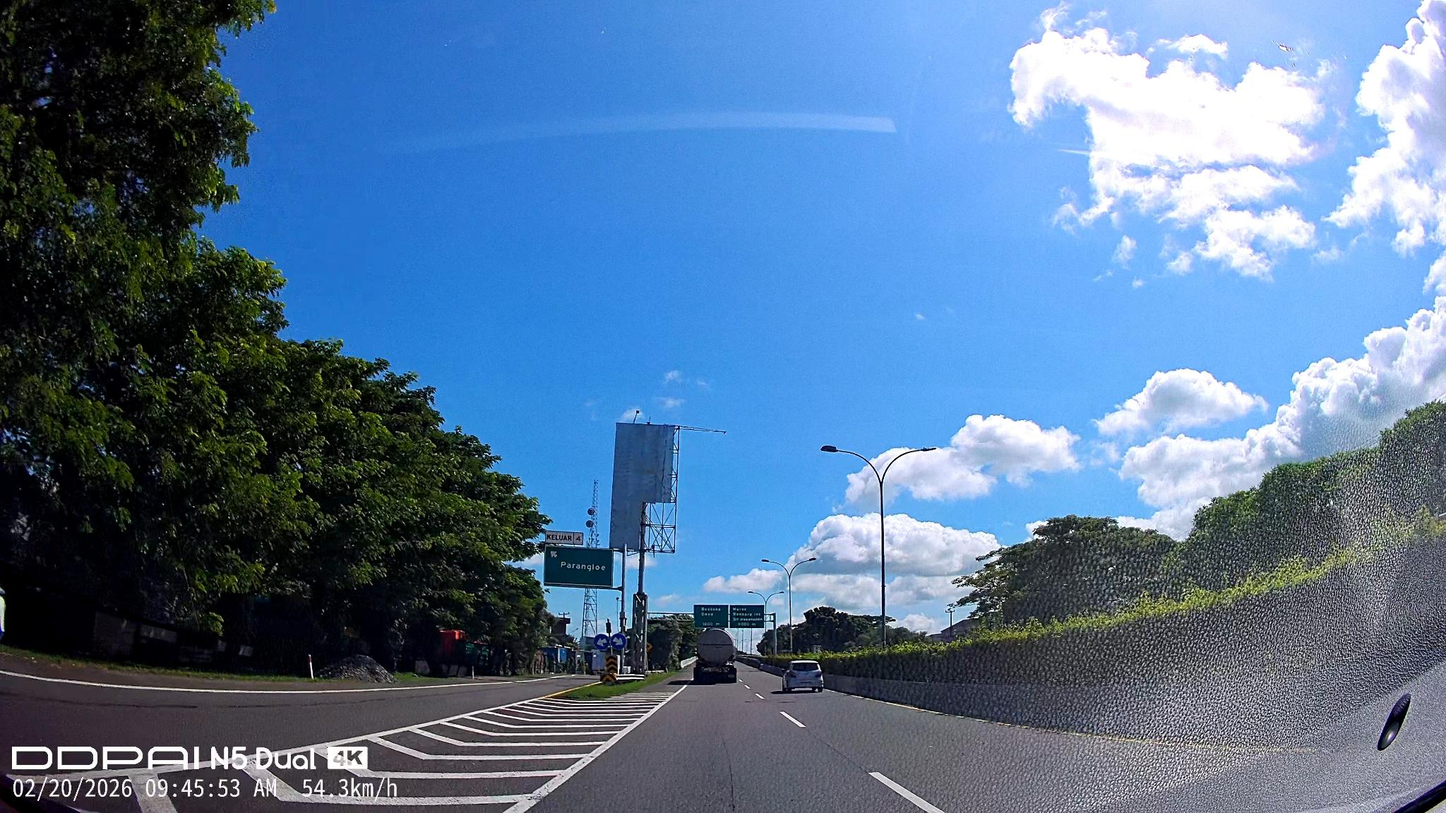rambu_teks: (543, 544, 614, 588)
